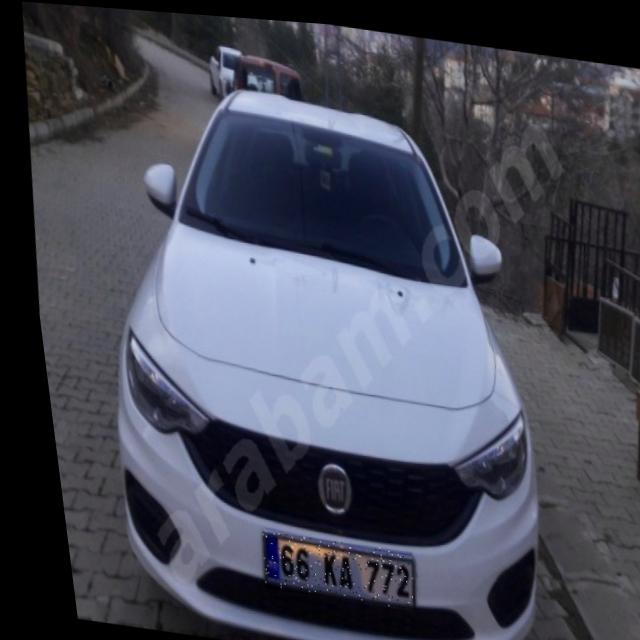license_plate: (244, 527, 404, 604)
